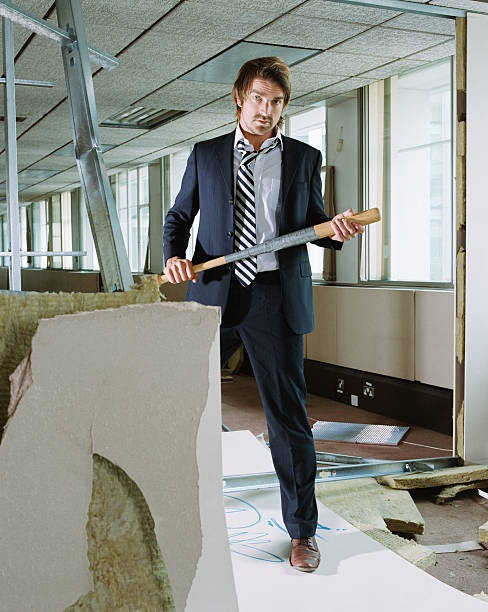bita: (160, 206, 384, 277)
